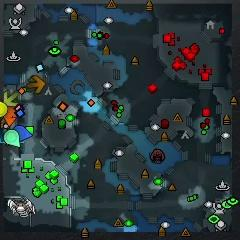p1: (14, 126, 33, 140)
p2: (3, 130, 21, 148)
p4: (0, 100, 8, 118)
p5: (5, 104, 17, 127)
x2: (3, 90, 20, 108)
x4: (25, 76, 38, 94)
x5: (28, 75, 45, 94)
